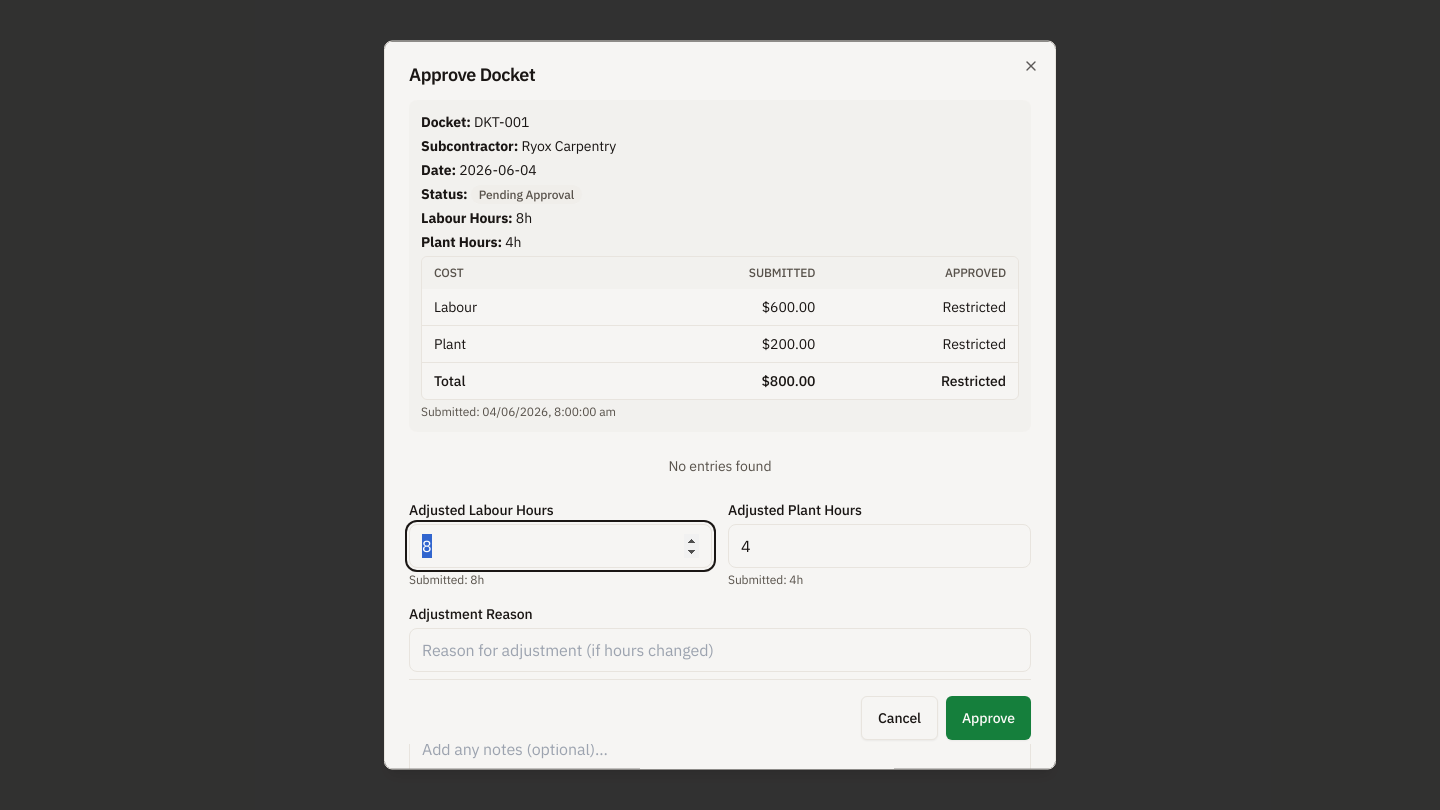
Test: DocketActionModal › requires an adjustment reason when approve hours are changed
Replace the text in the number field labelled "Adjusted Labour Hours" with "7": (560, 546) [409,524,712,568]
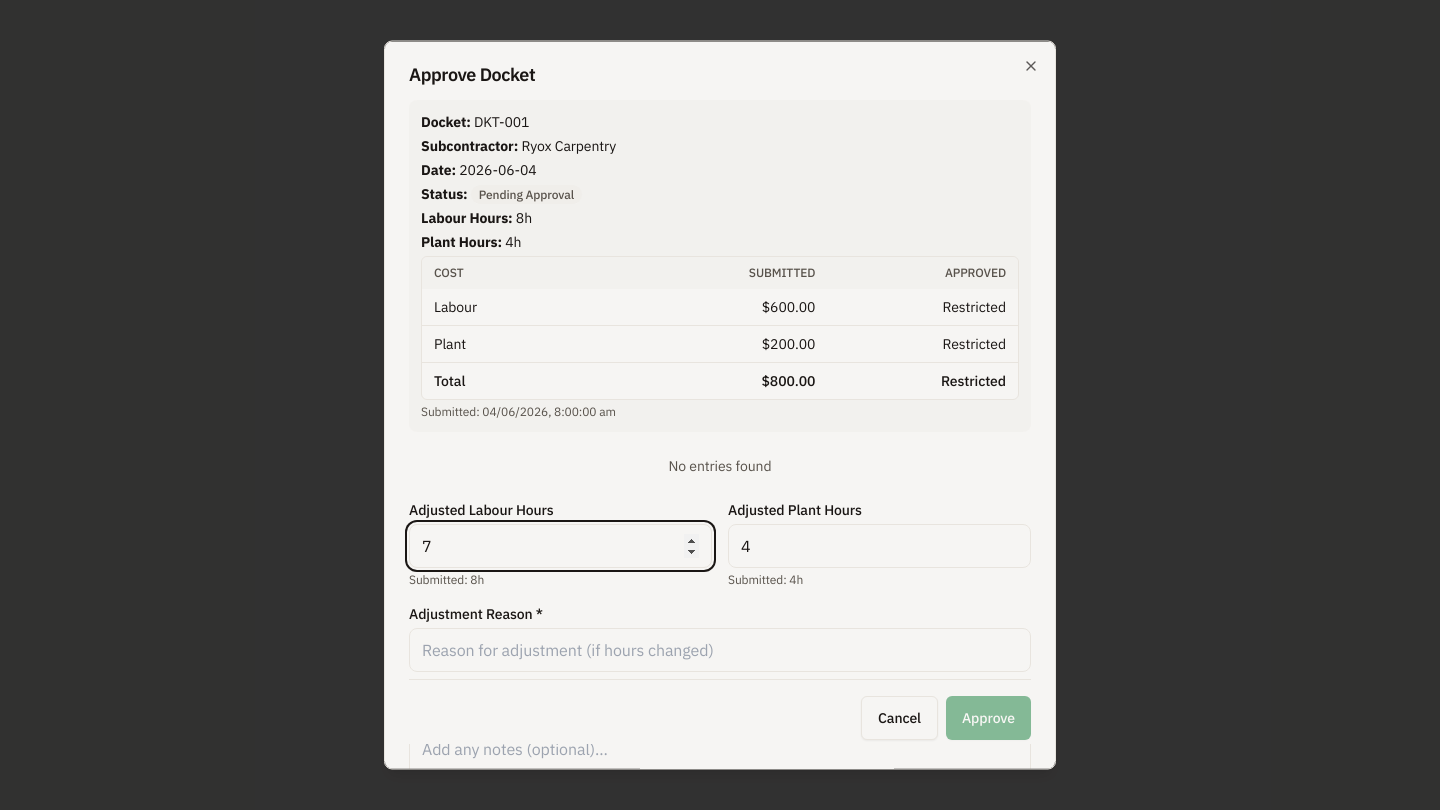
Expected: the button "Approve" is disabled, [946,696,1031,740]
In the field labelled "Adjustment Reason *": (720, 650) [409,628,1031,672], type "Rounded down after review"
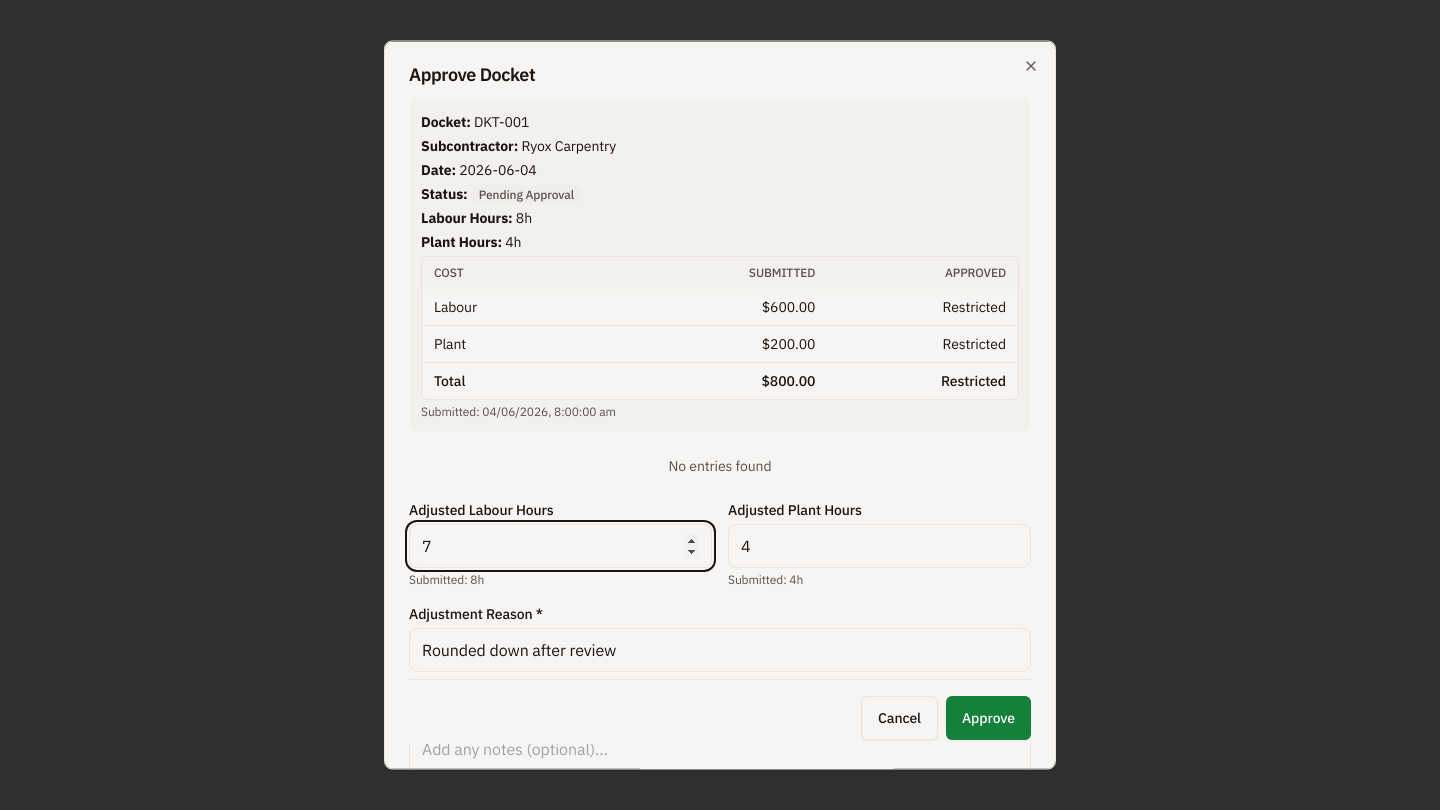
Expected: the button "Approve" is enabled, [946,696,1031,740]
